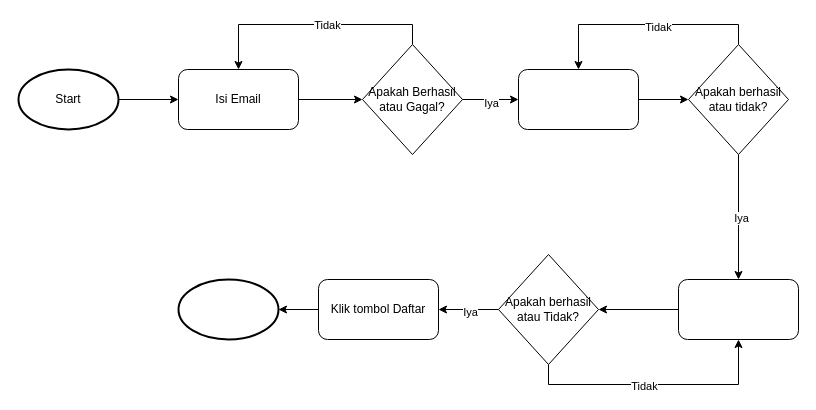
Some shapes in this 816 by 410 pixel diagram are drawn without their labels. Each missing label, with the centre of its shape:
"Finish" goes at pixel 228 309.
"Isi Nama" goes at pixel 578 99.
"Masukan Password" goes at pixel 738 309.
